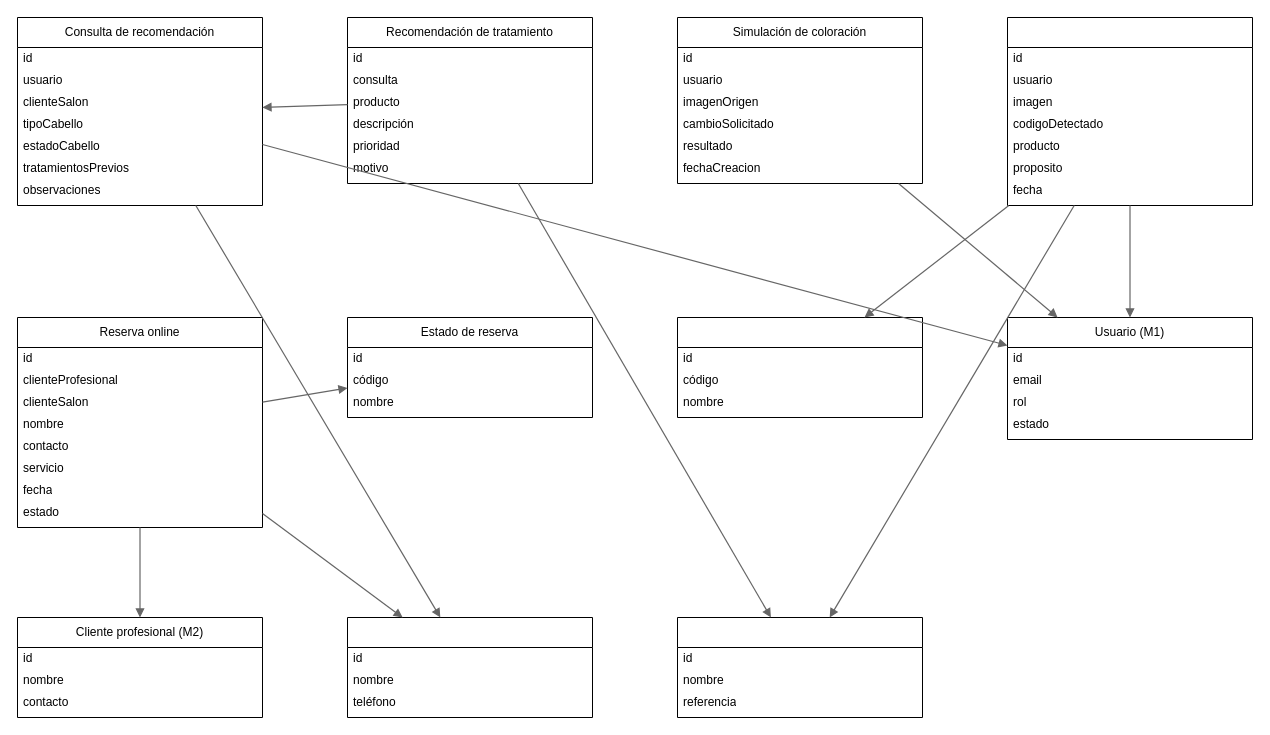
The diagram is 1270 pixels wide and 735 high, and some of its shapes have lost their labels. Each missing label, with the box of its shape:
Cliente del salón (M5): (346, 616, 592, 718)
Producto (M3): (676, 616, 922, 718)
Propósito de reconocimiento: (676, 316, 922, 418)
Reconocimiento de producto: (1006, 16, 1252, 206)
